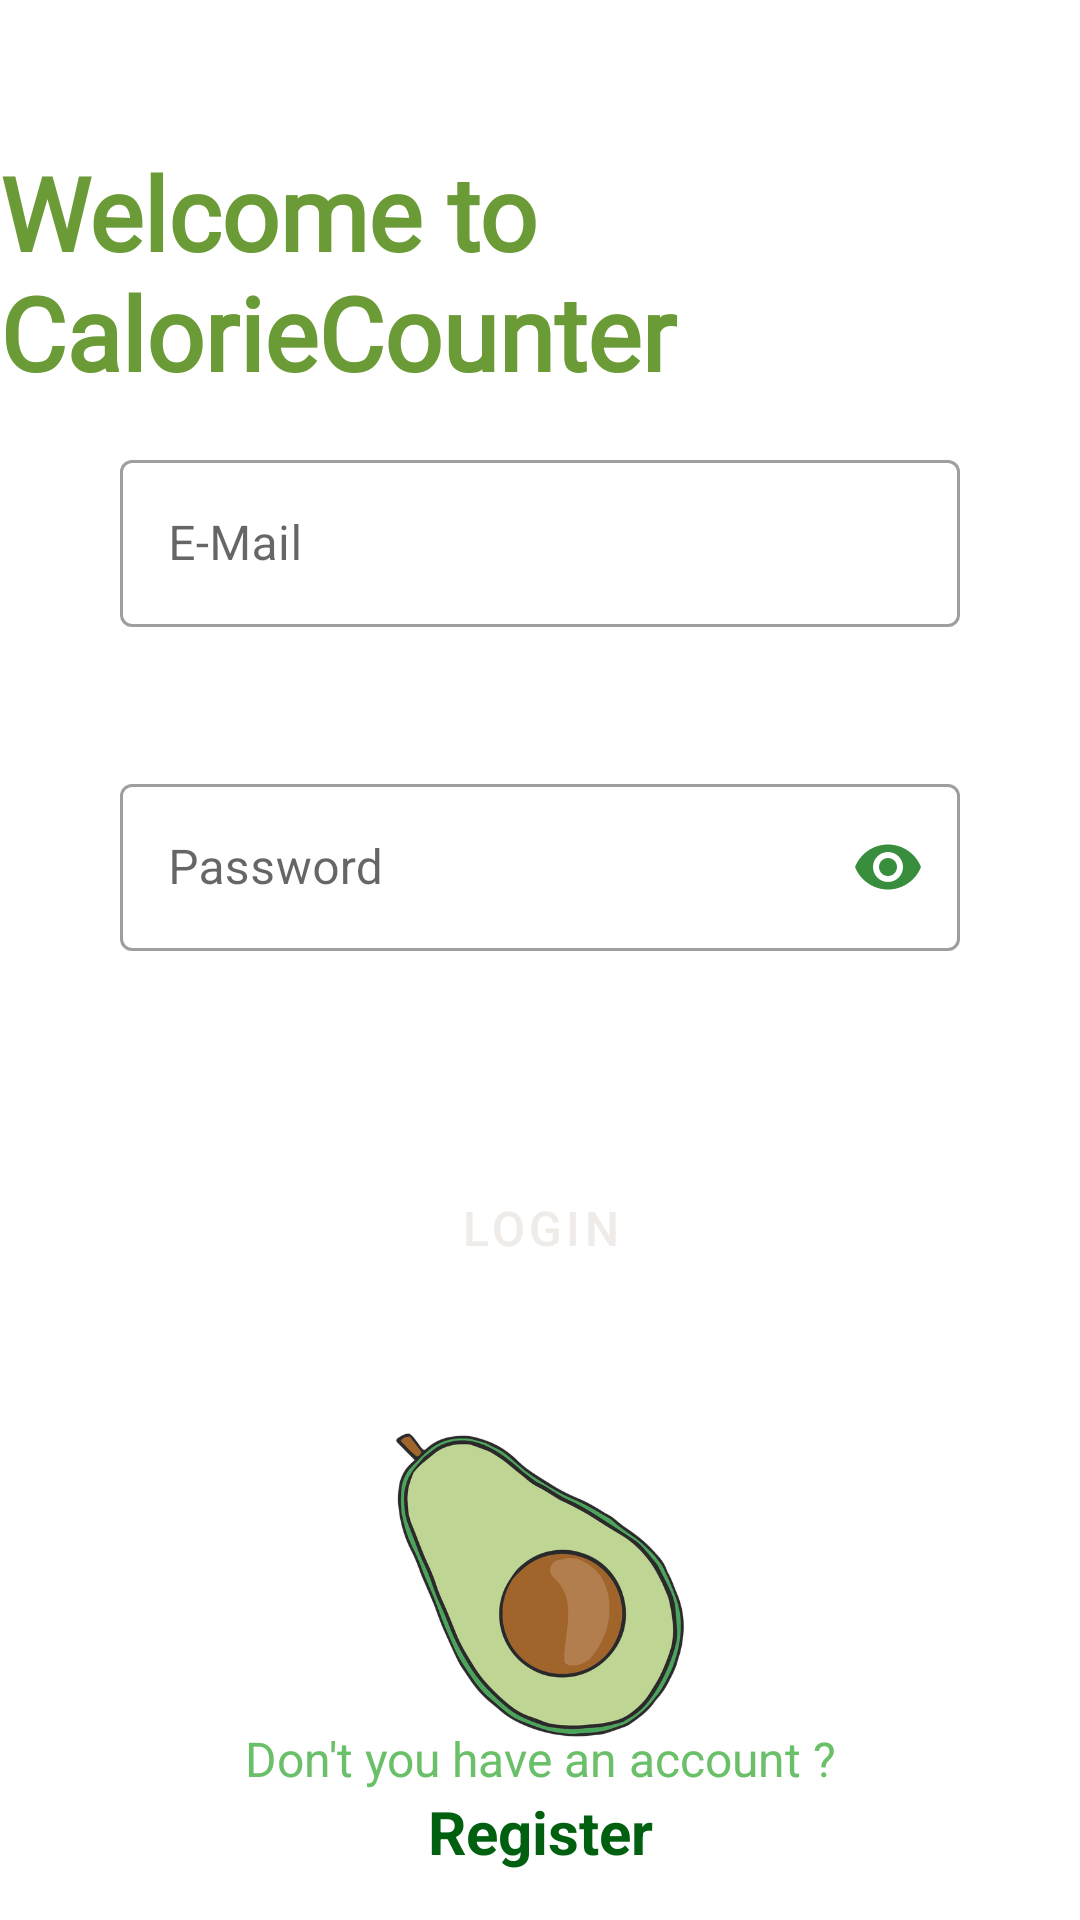

Screen size 1080×1920. Icon name, then its center in pixels as (x=x, y=y):
avacado: (x=540, y=1585)
